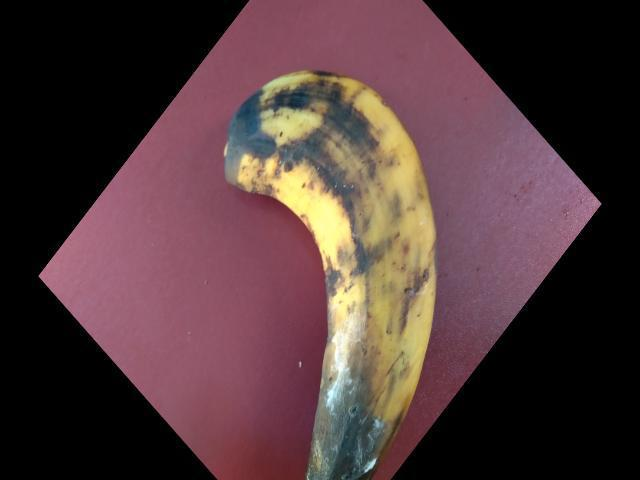rotten: (210, 51, 487, 479)
